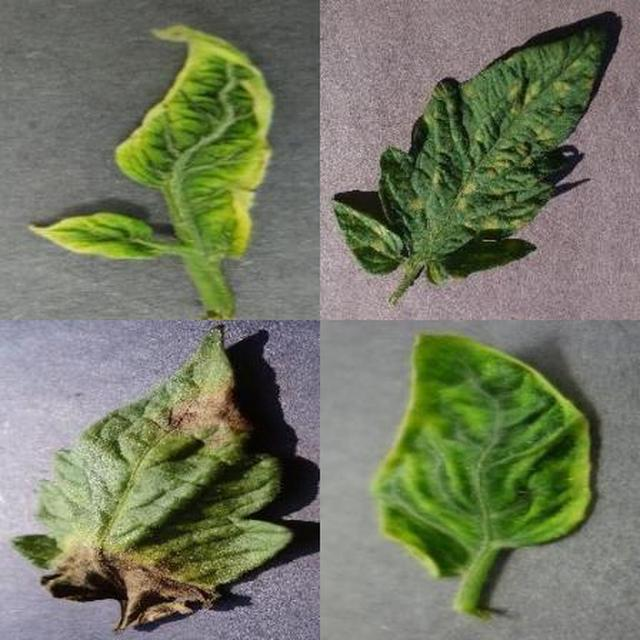Yellow Leaf Curl Virus: (128, 72, 640, 640)
